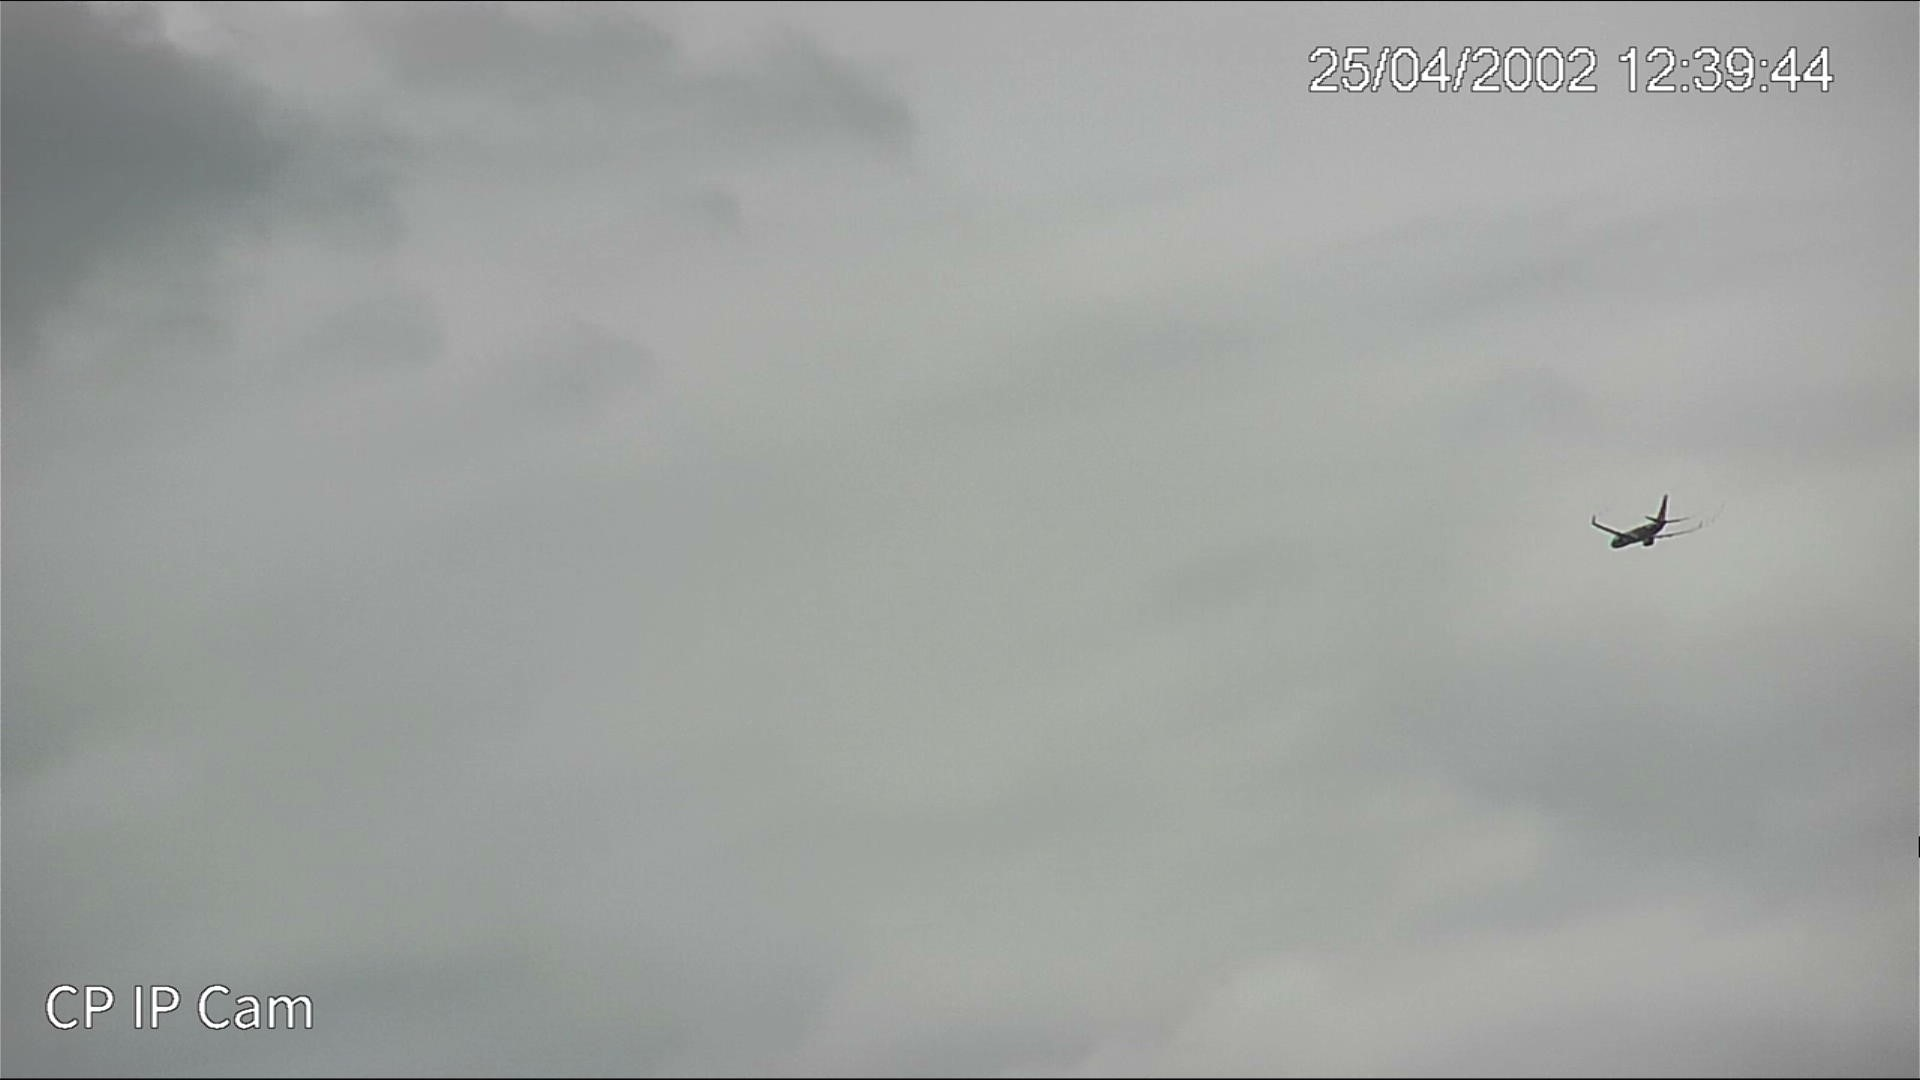SU_30: (1582, 493, 1693, 553)
